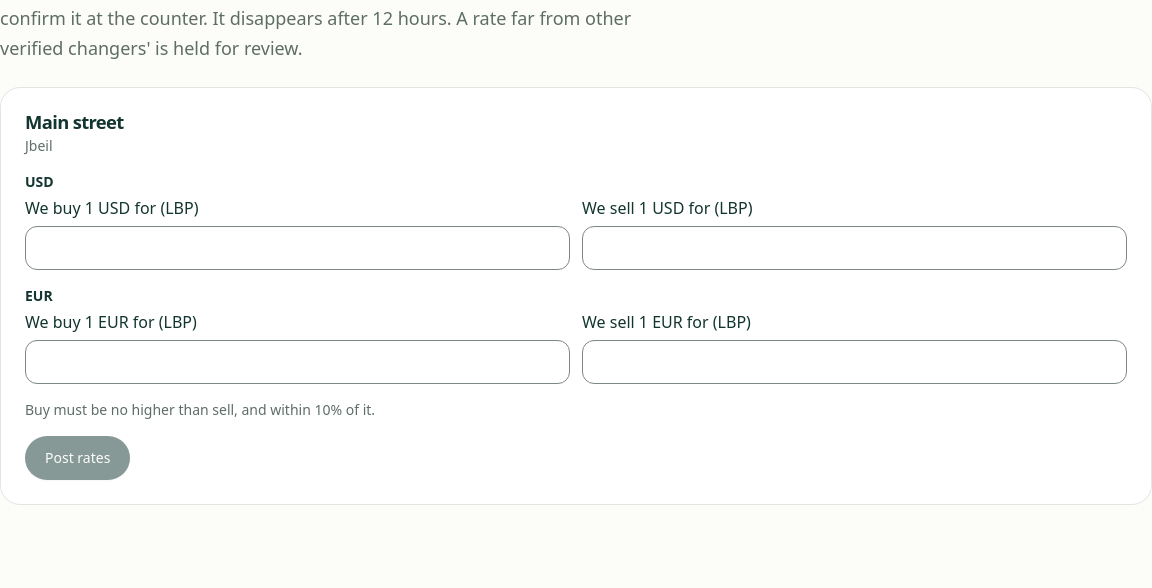
Test: changer rates › posts rates for a live branch with the authenticator step-up
The width and height of the screenshot is (1152, 588).
Type "89,000" into the field labelled "We buy 1 USD for (LBP)".
click(298, 248); type("89,000")  # box [25,226,570,270]
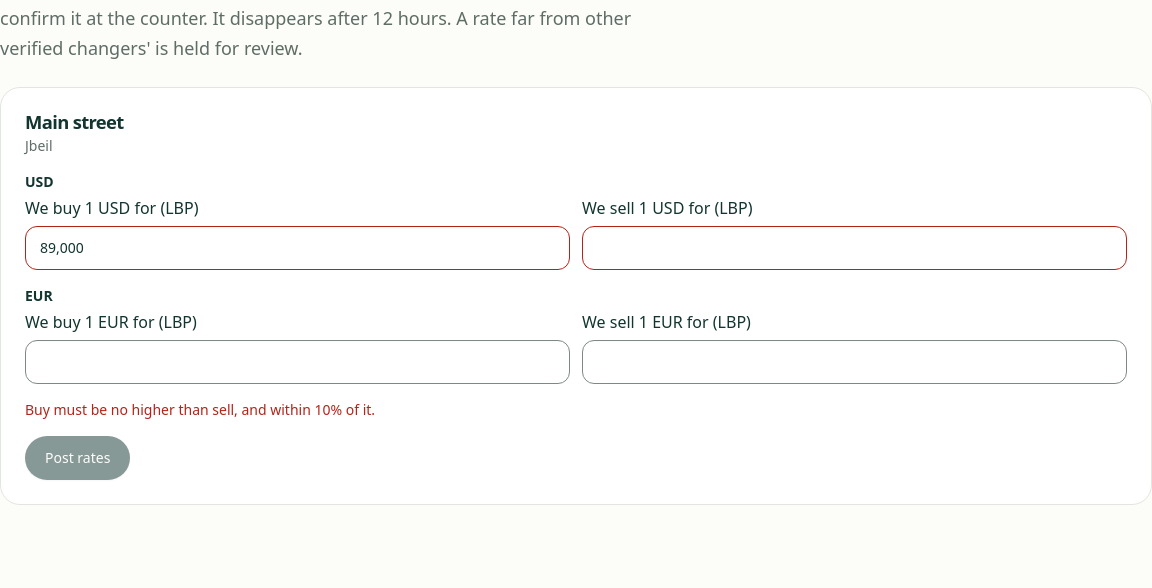
Type "89500" into the field labelled "We sell 1 USD for (LBP)".
click(854, 248); type("89500")  # box [582,226,1127,270]
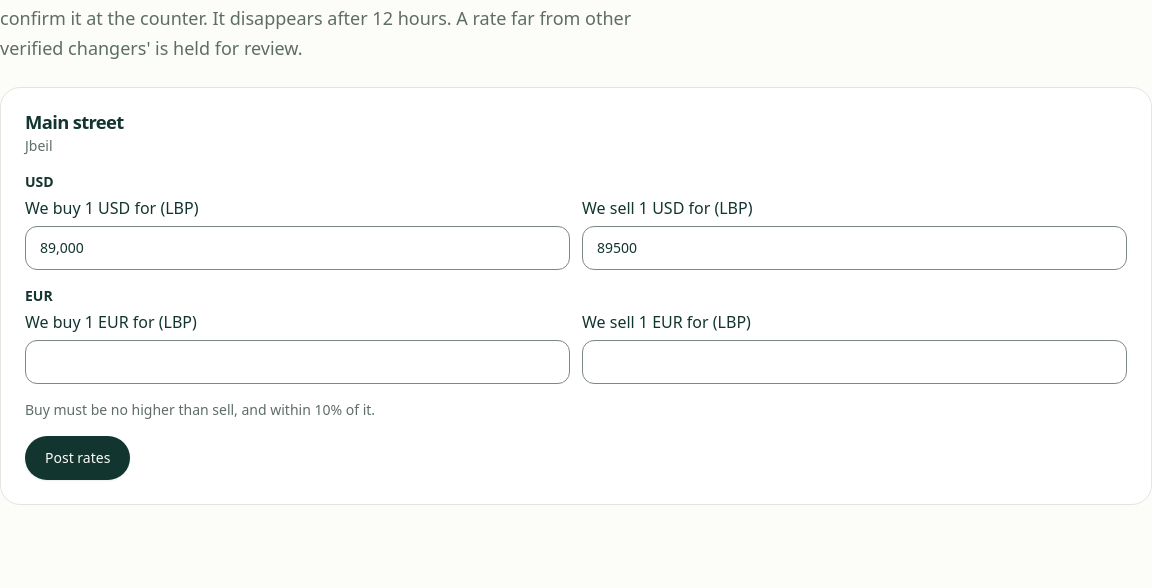
Click the button "Post rates".
click(78, 458)  # box [25,436,130,480]
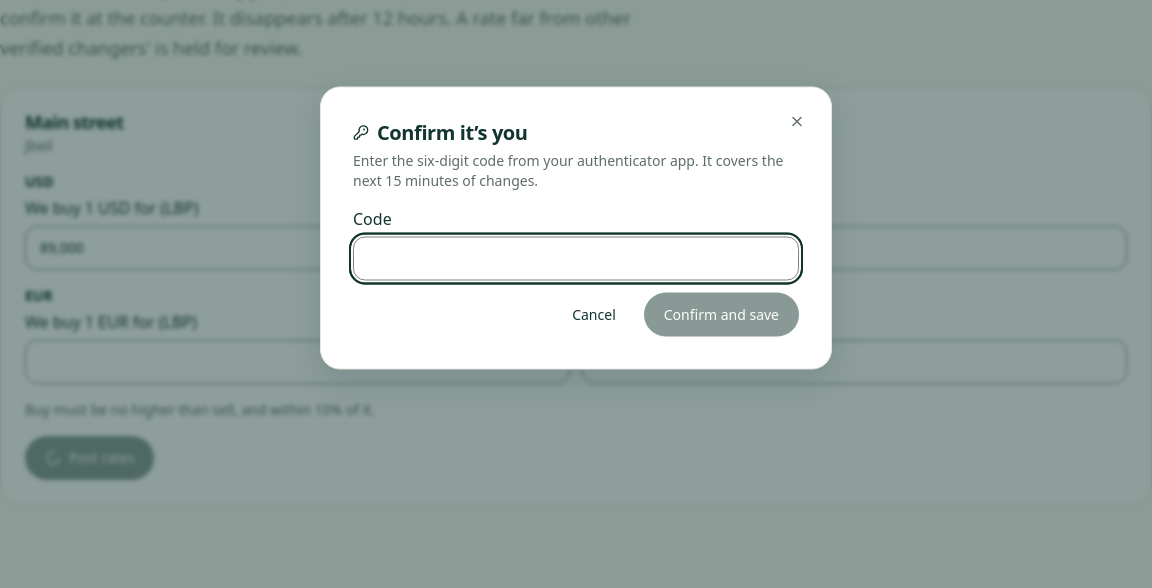
Type "123456" into the field labelled "Code".
click(576, 258); type("123456")  # box [353,236,799,280]
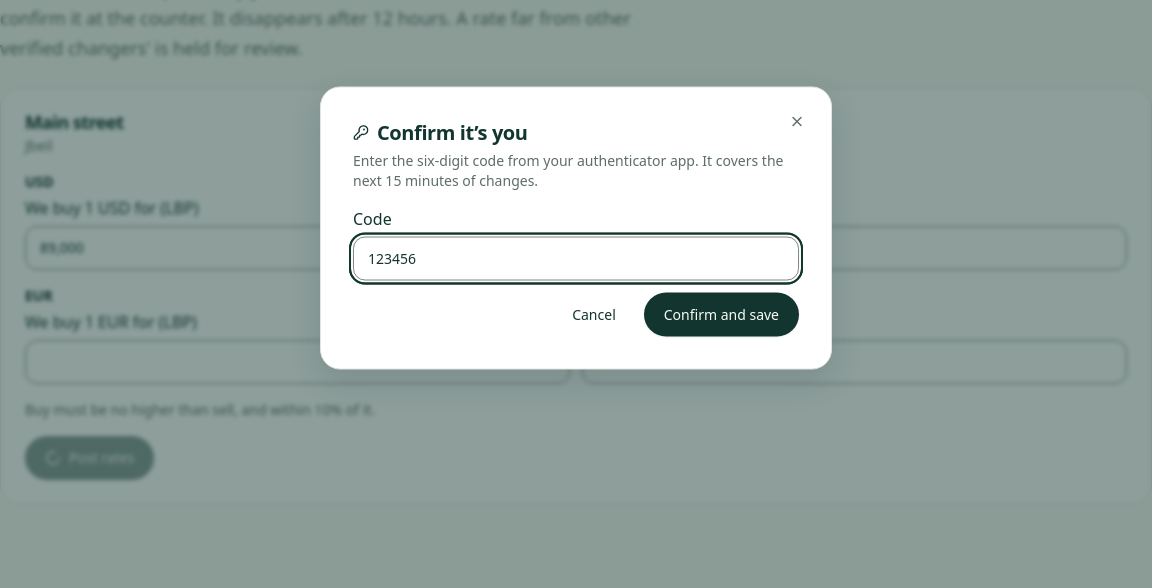
Click the button "Confirm and save".
click(721, 314)  # box [644,292,799,336]
(page scrolled)
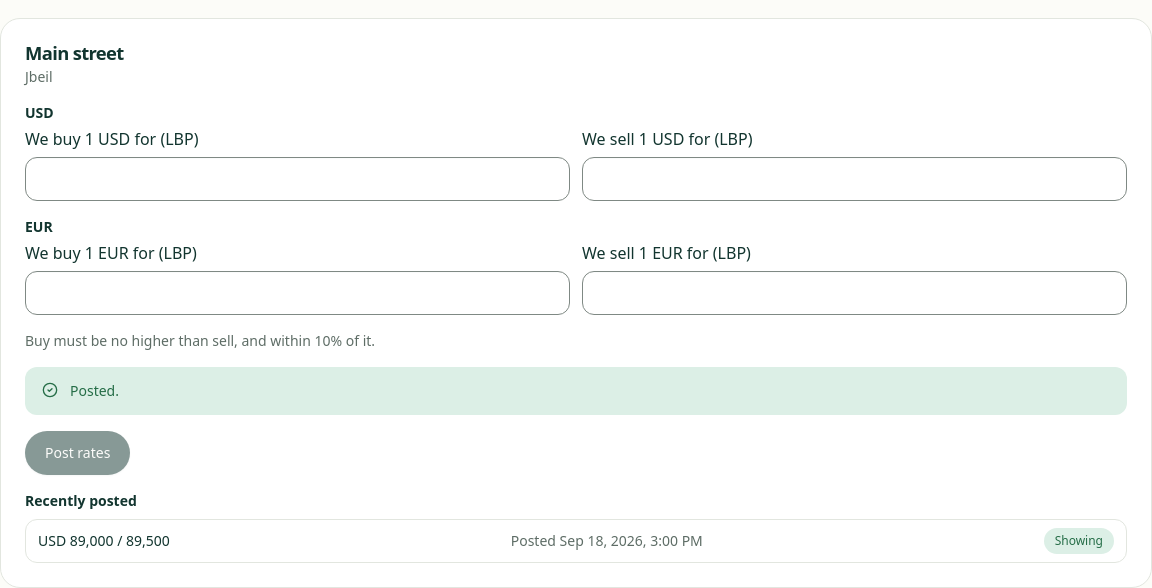
Expected: the text "Showing" is shown, [1044,528,1114,554]
